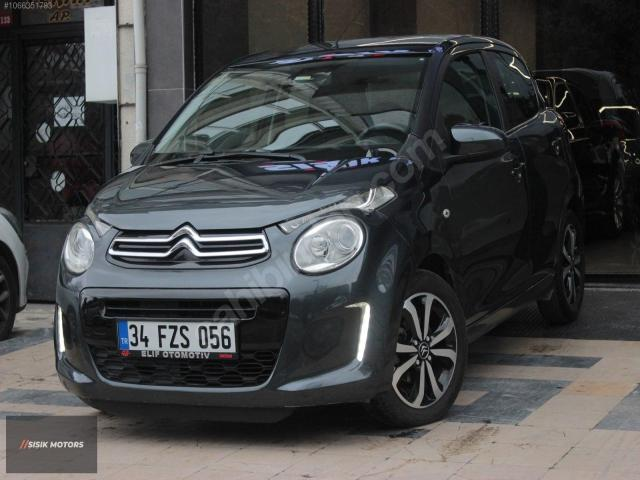plaka: (118, 321, 236, 357)
